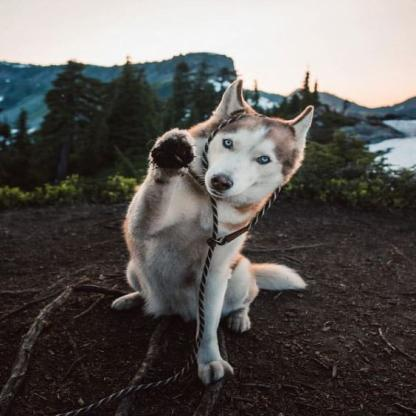dog: (115, 81, 308, 388)
